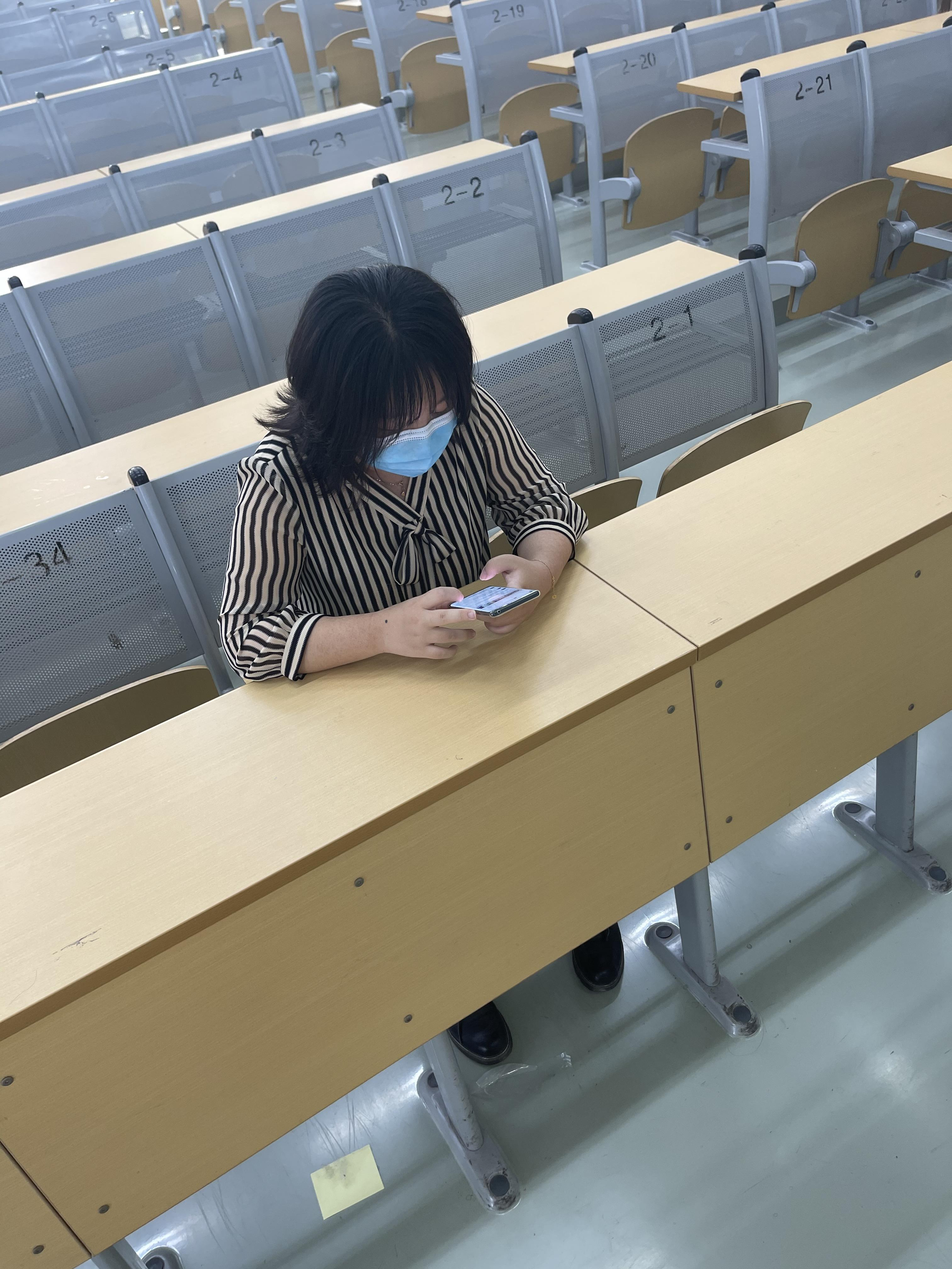phone: (216, 264, 587, 683)
